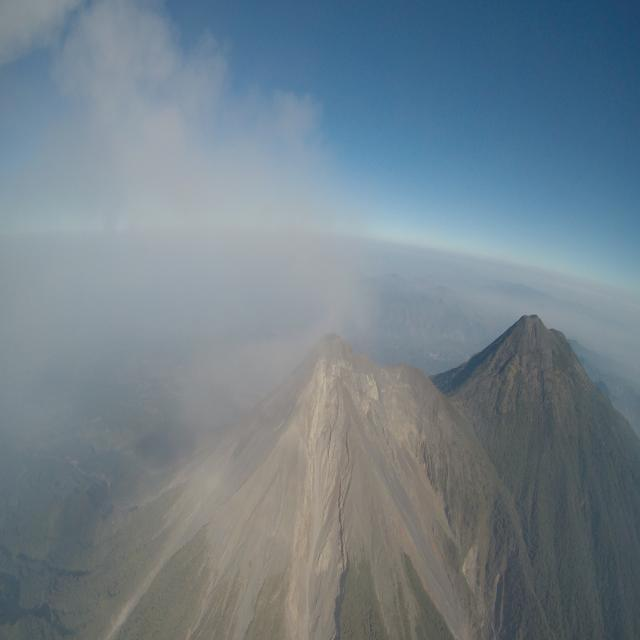Plume: (48, 5, 234, 273), (0, 0, 76, 59)
Summit: (284, 329, 381, 411)
